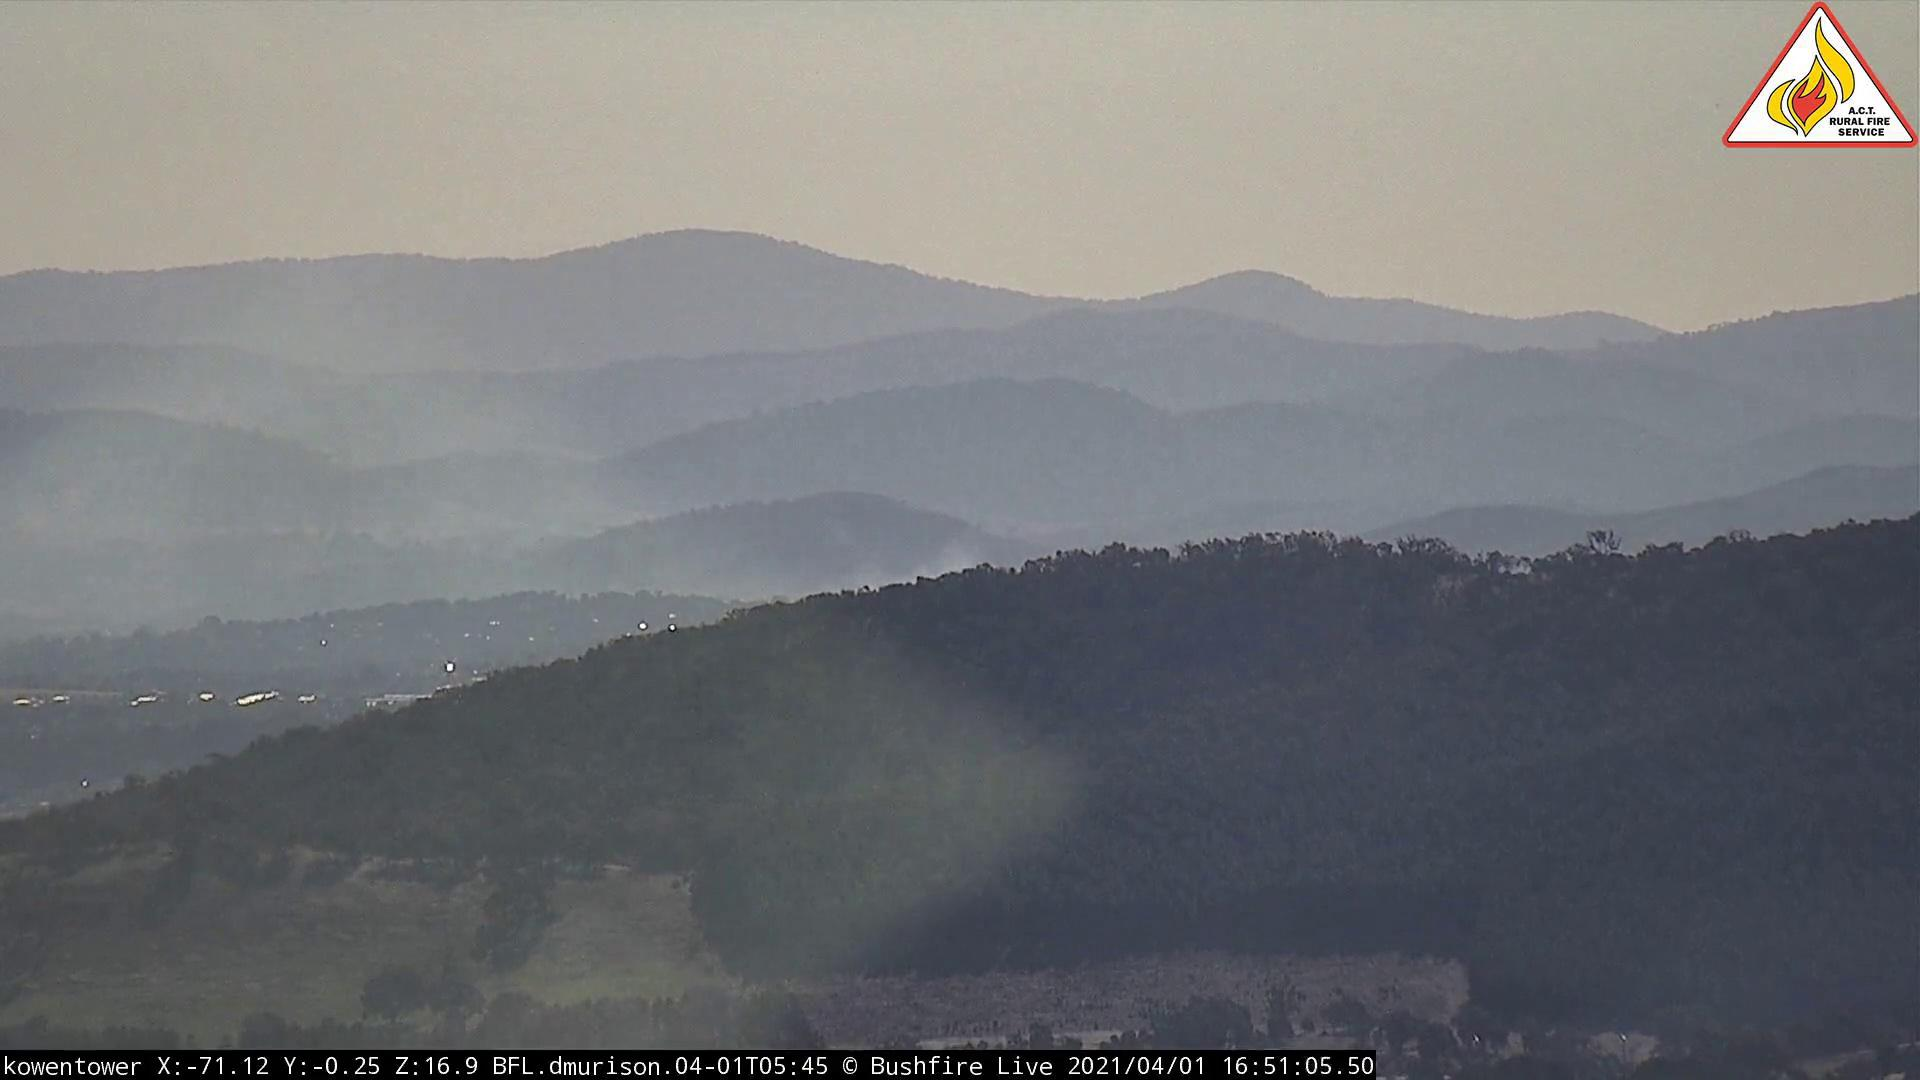Smoke: (597, 324, 1022, 611)
